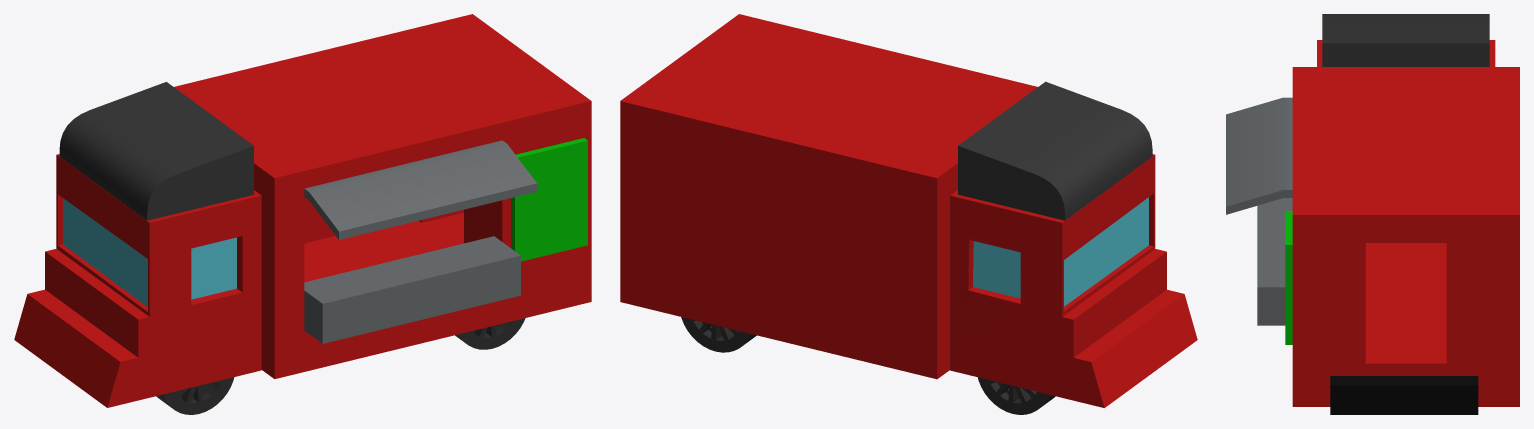
Rendered from 푸드트럭ver01.fbx.
3 views of the same model, side by side, from view 1: azimuth 30°, elevation 25°; view 2: azimuth 150°, elevation 25°; view 3: azimuth 270°, elevation 25° (orthographic). The views are drawn at different scales.
Parts seen in each view (by area): view 1: 차량본체, 푸트테이블, 앞상단부분, 간판, 앞유리, 알바퀴-2, 뒷바퀴-1; view 2: 차량본체, 앞상단부분, 앞유리, 앞바퀴-1, 뒷바퀴-2; view 3: 차량본체, 푸트테이블, 앞상단부분, 뒷발판, 간판.
Part boxes in pixels (x1,y1,x2,y2): 차량본체: (14,14,591,407); 푸트테이블: (304,140,536,343); 앞상단부분: (59,82,253,220); 간판: (511,138,587,261); 앞유리: (63,198,236,306); 알바퀴-2: (156,377,234,414); 뒷바퀴-1: (455,318,525,349); 차량본체: (620,14,1197,407); 앞상단부분: (958,81,1152,220); 앞유리: (973,197,1148,306); 앞바퀴-1: (978,377,1055,414); 뒷바퀴-2: (681,317,756,352); 차량본체: (1292,40,1519,406); 푸트테이블: (1226,97,1292,325); 앞상단부분: (1322,14,1489,66); 뒷발판: (1330,376,1478,414); 간판: (1285,211,1292,344).
Size of the model in its own units: 308 by 155 by 167.
